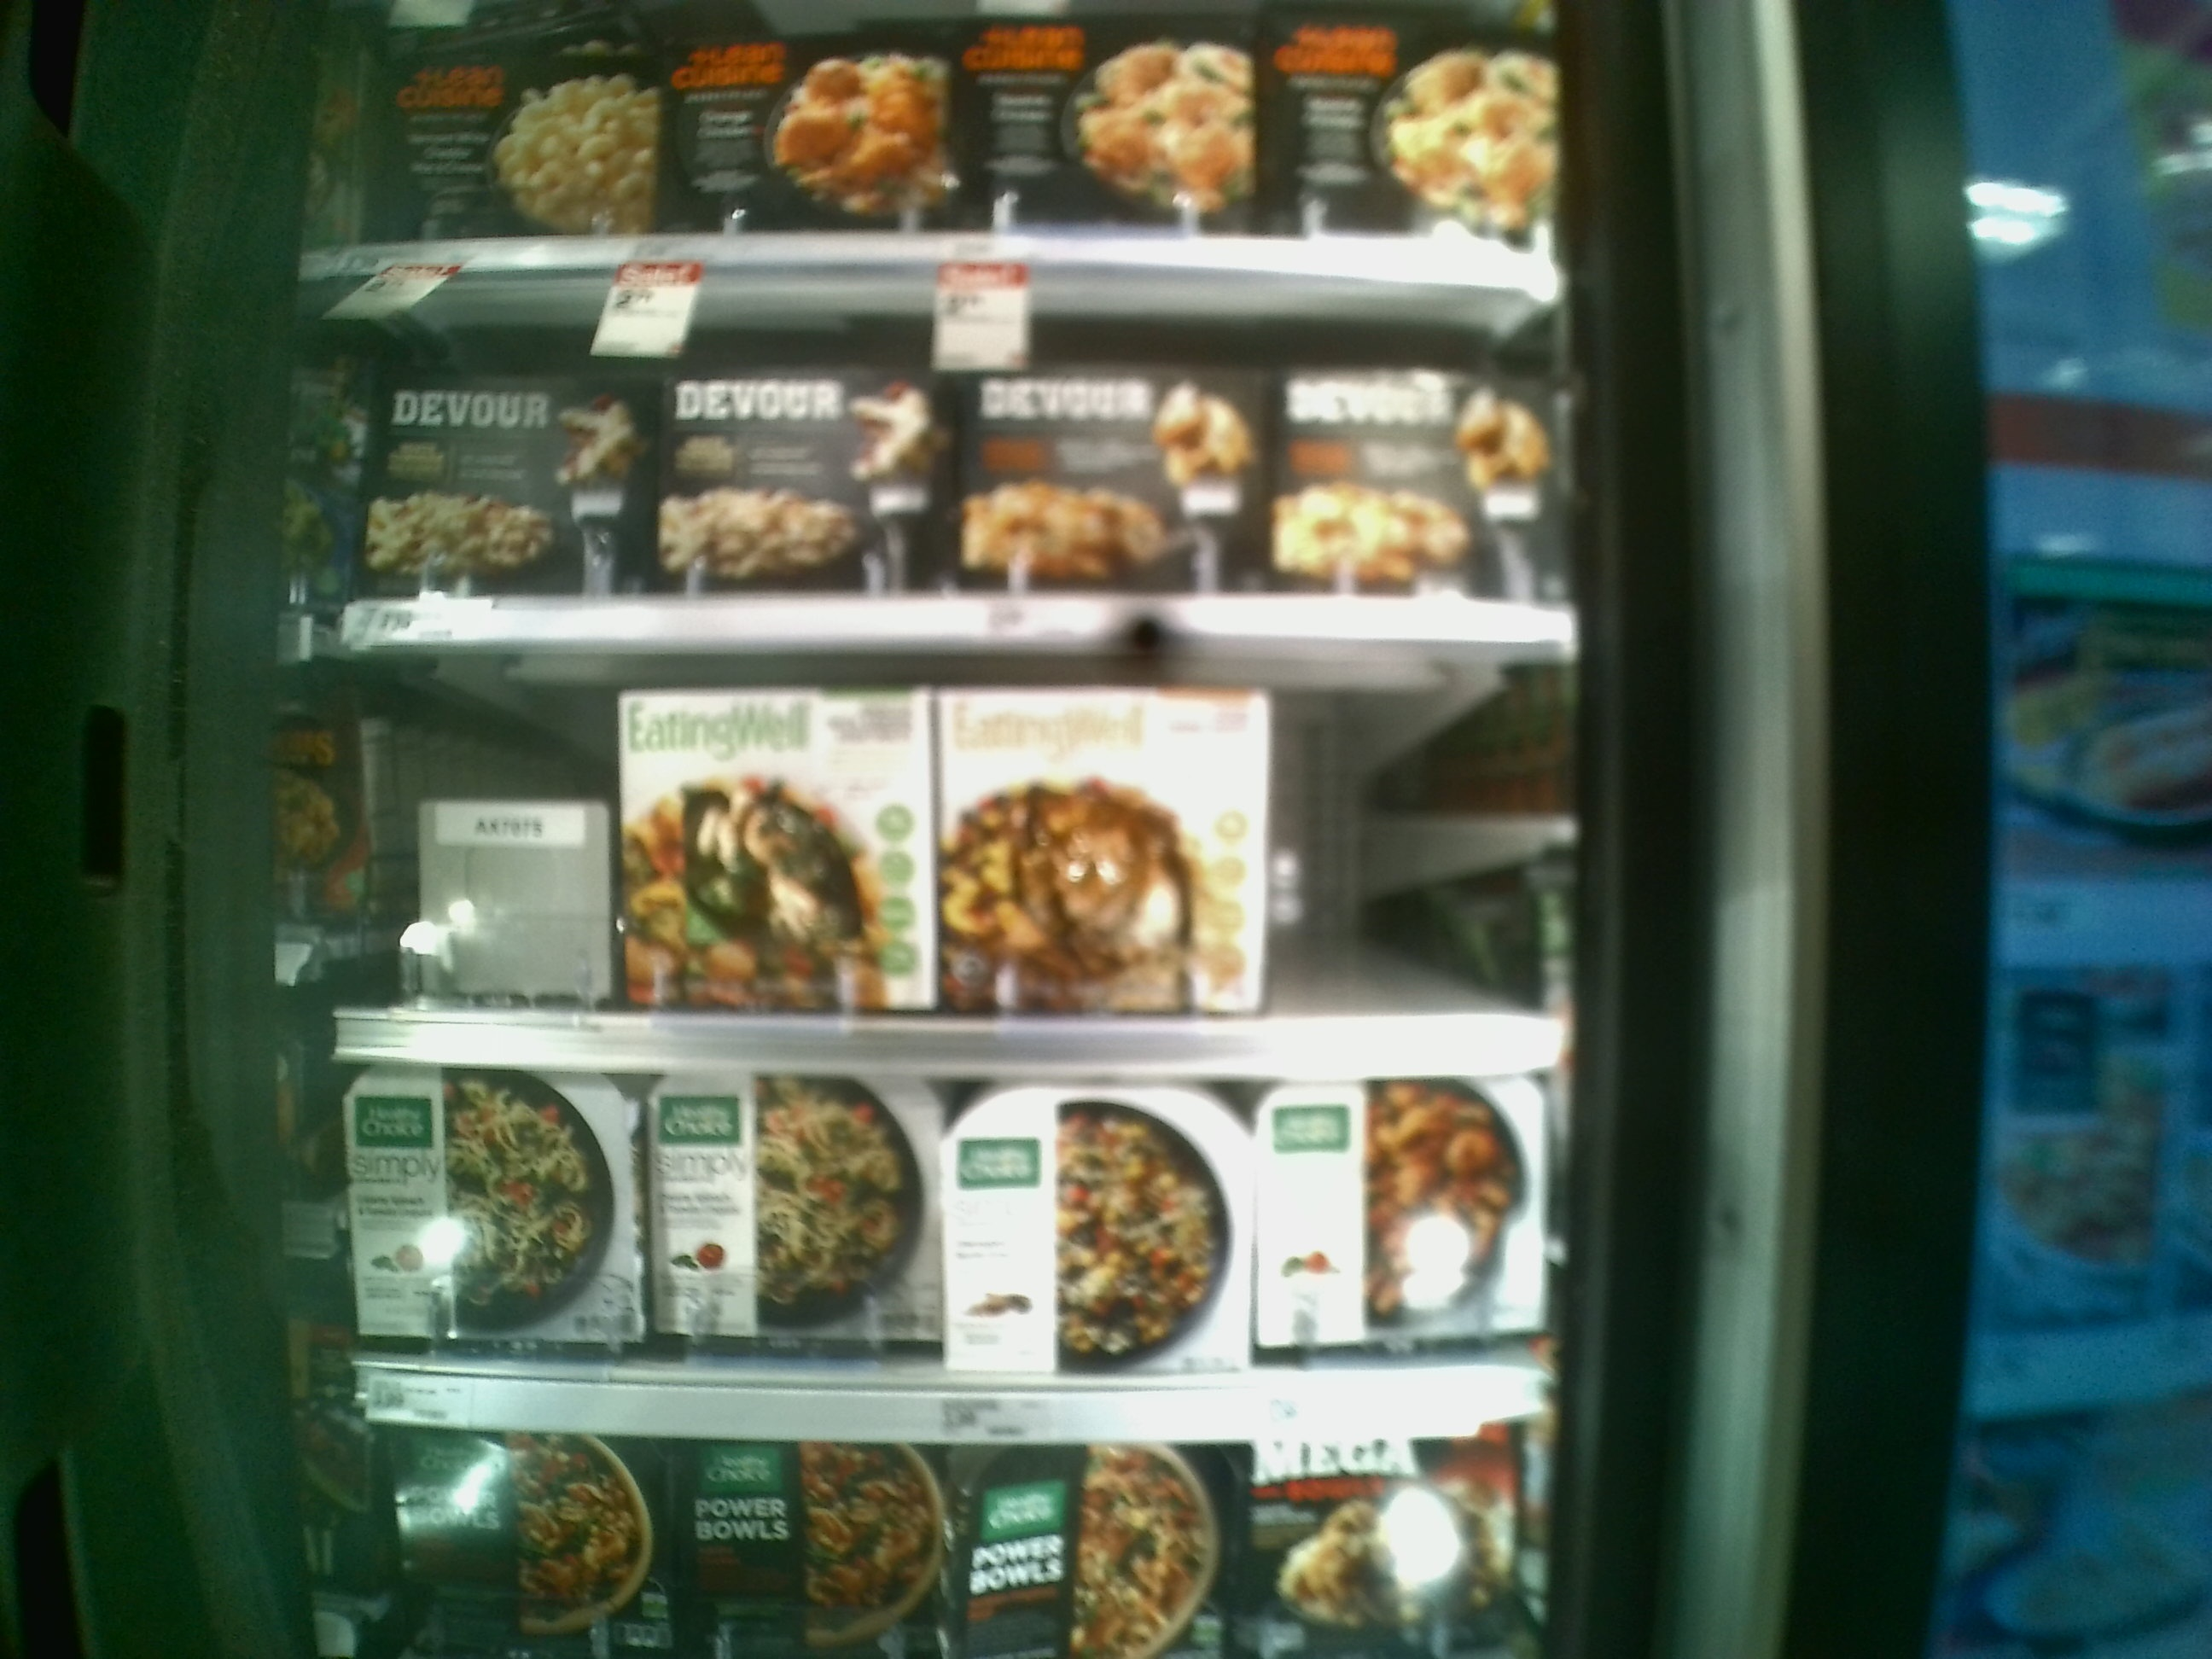shelf: (314, 650, 1580, 1079), (310, 268, 1585, 647), (340, 1053, 1578, 1427)
